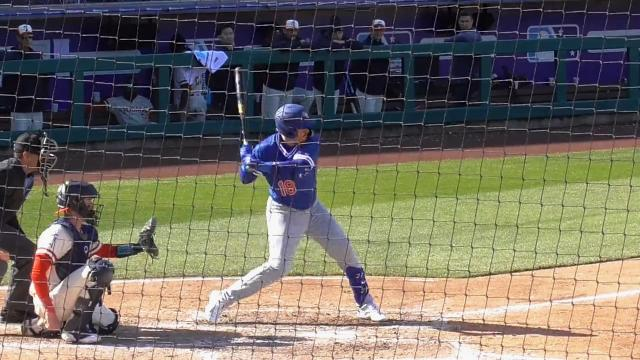bat: (234, 66, 253, 144)
